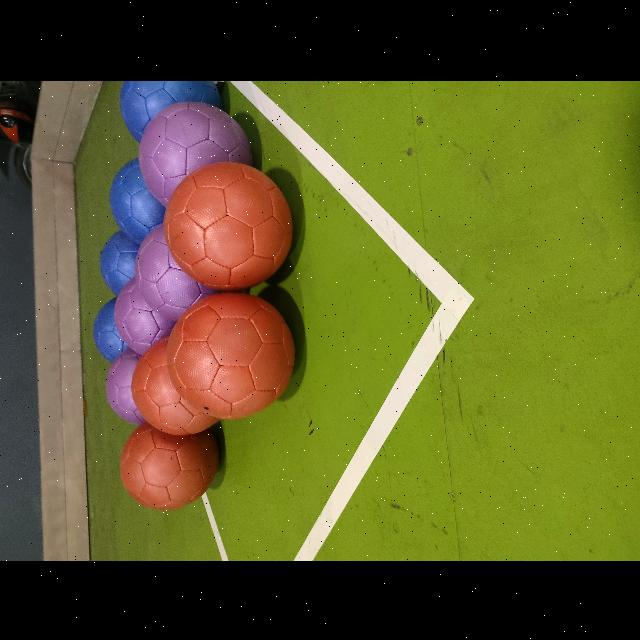B: (120, 80, 220, 142), (110, 158, 164, 242), (94, 296, 128, 362)
P: (138, 101, 252, 205), (136, 222, 218, 320), (106, 348, 144, 424)
R: (165, 161, 292, 289), (168, 292, 294, 418), (120, 422, 218, 508), (134, 344, 222, 436)
